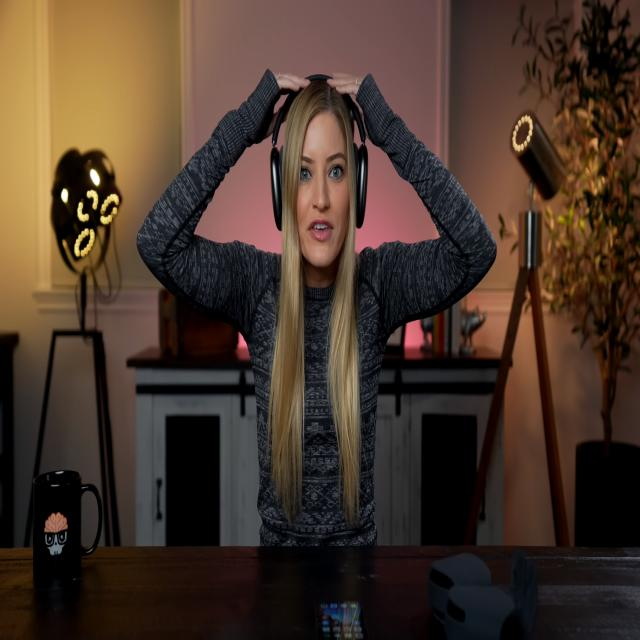Headphone: (268, 70, 369, 234)
